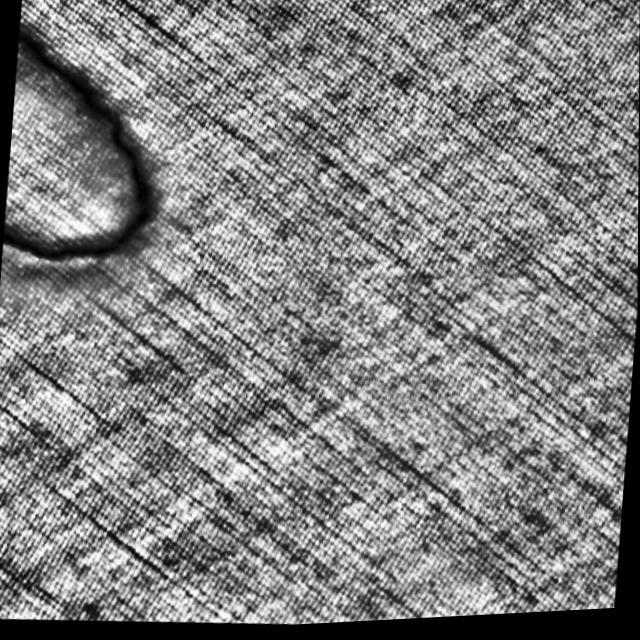Stitch: (1, 24, 175, 278)
